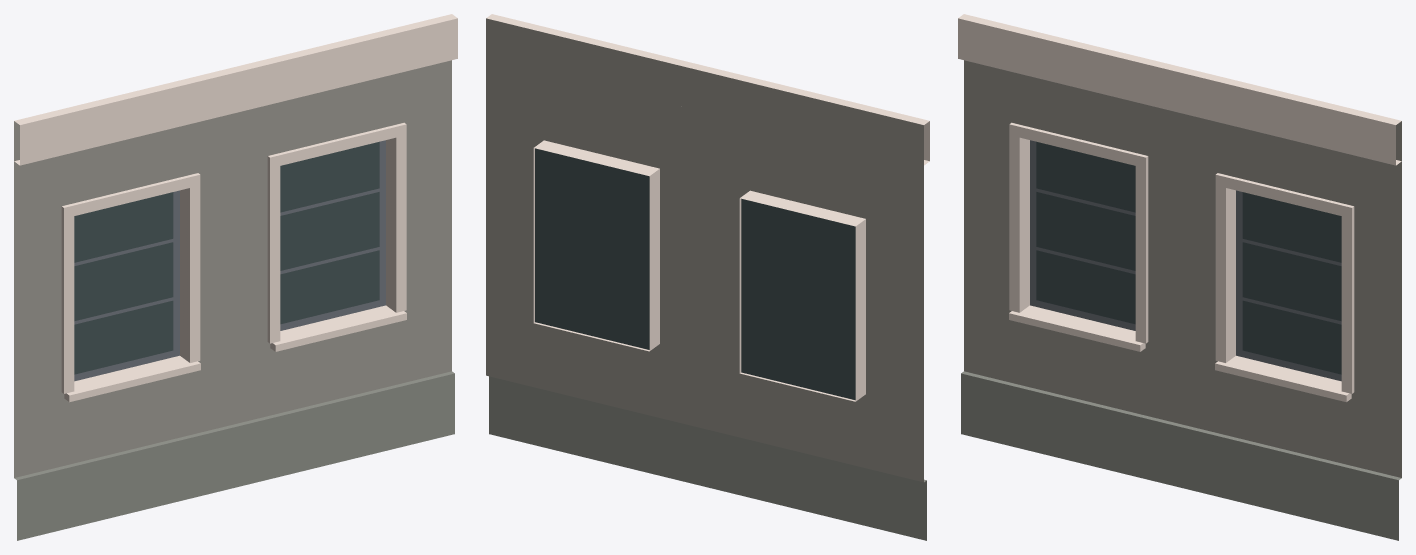
3 renders of one model, left to right at view 1: azimuth 30°, elevation 25°; view 2: azimuth 150°, elevation 25°; view 3: azimuth 330°, elevation 25°, orthographic.
Visible parts, largest first — view 1: a2001/800/base-w3; view 2: a2001/800/base-w3; view 3: a2001/800/base-w3.
Part boxes in pixels (x1,y1,x2,y2): a2001/800/base-w3: (14, 14, 457, 540); a2001/800/base-w3: (486, 14, 929, 540); a2001/800/base-w3: (958, 14, 1401, 540).
Bounding box in the file's own units: 3.4 × 3.1 × 0.22.
